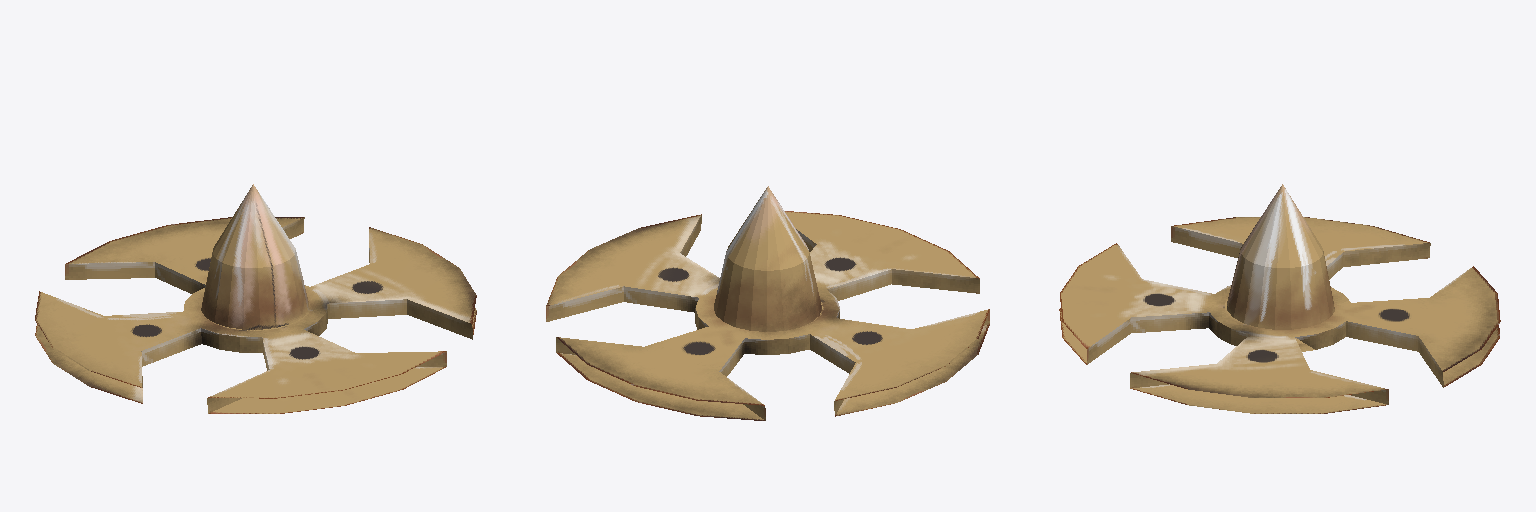
The picture shows the model from 3 angles: view 1: azimuth 30°, elevation 25°; view 2: azimuth 150°, elevation 25°; view 3: azimuth 270°, elevation 25°; orthographic projection.
Visible parts, largest first — view 1: LOD_0_Drone_MAT_0.002_Drone_MAT; view 2: LOD_0_Drone_MAT_0.002_Drone_MAT; view 3: LOD_0_Drone_MAT_0.002_Drone_MAT.
Part boxes in pixels (bbox=[...]): LOD_0_Drone_MAT_0.002_Drone_MAT: bbox=[35, 184, 476, 413]; LOD_0_Drone_MAT_0.002_Drone_MAT: bbox=[546, 186, 989, 420]; LOD_0_Drone_MAT_0.002_Drone_MAT: bbox=[1059, 184, 1500, 413].
Size of the model in its own units: 0.3967 by 0.142 by 0.3968.
1 materials, 1 textured.